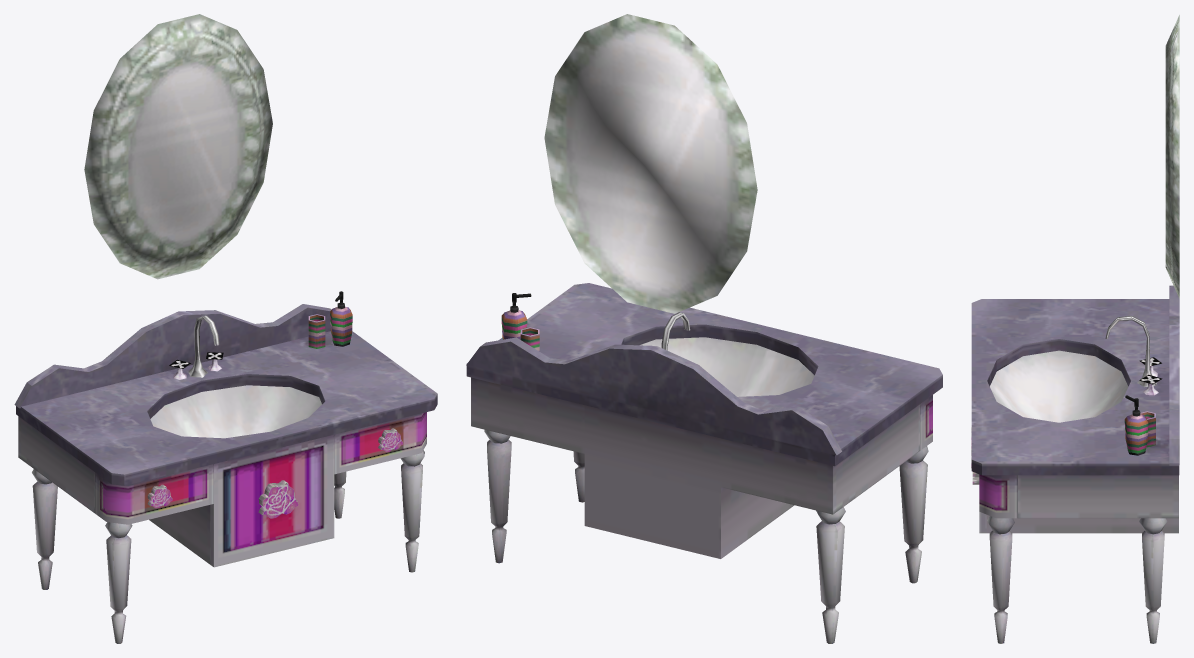
The model's file is furni_0200623_02.FBX.
3 renders of one model, left to right at view 1: azimuth 30°, elevation 25°; view 2: azimuth 150°, elevation 25°; view 3: azimuth 270°, elevation 25°, orthographic. The views are drawn at different scales.
Visible parts, largest first — view 1: furni_0200623_02; view 2: furni_0200623_02; view 3: furni_0200623_02.
Boxes of the visible parts, x1,y1,x2,y2 form: furni_0200623_02: (14,14,437,643); furni_0200623_02: (466,14,942,643); furni_0200623_02: (971,15,1179,643).
Bounding box in the file's own units: 152 × 233 × 80.91.
1 material, 1 textured.
